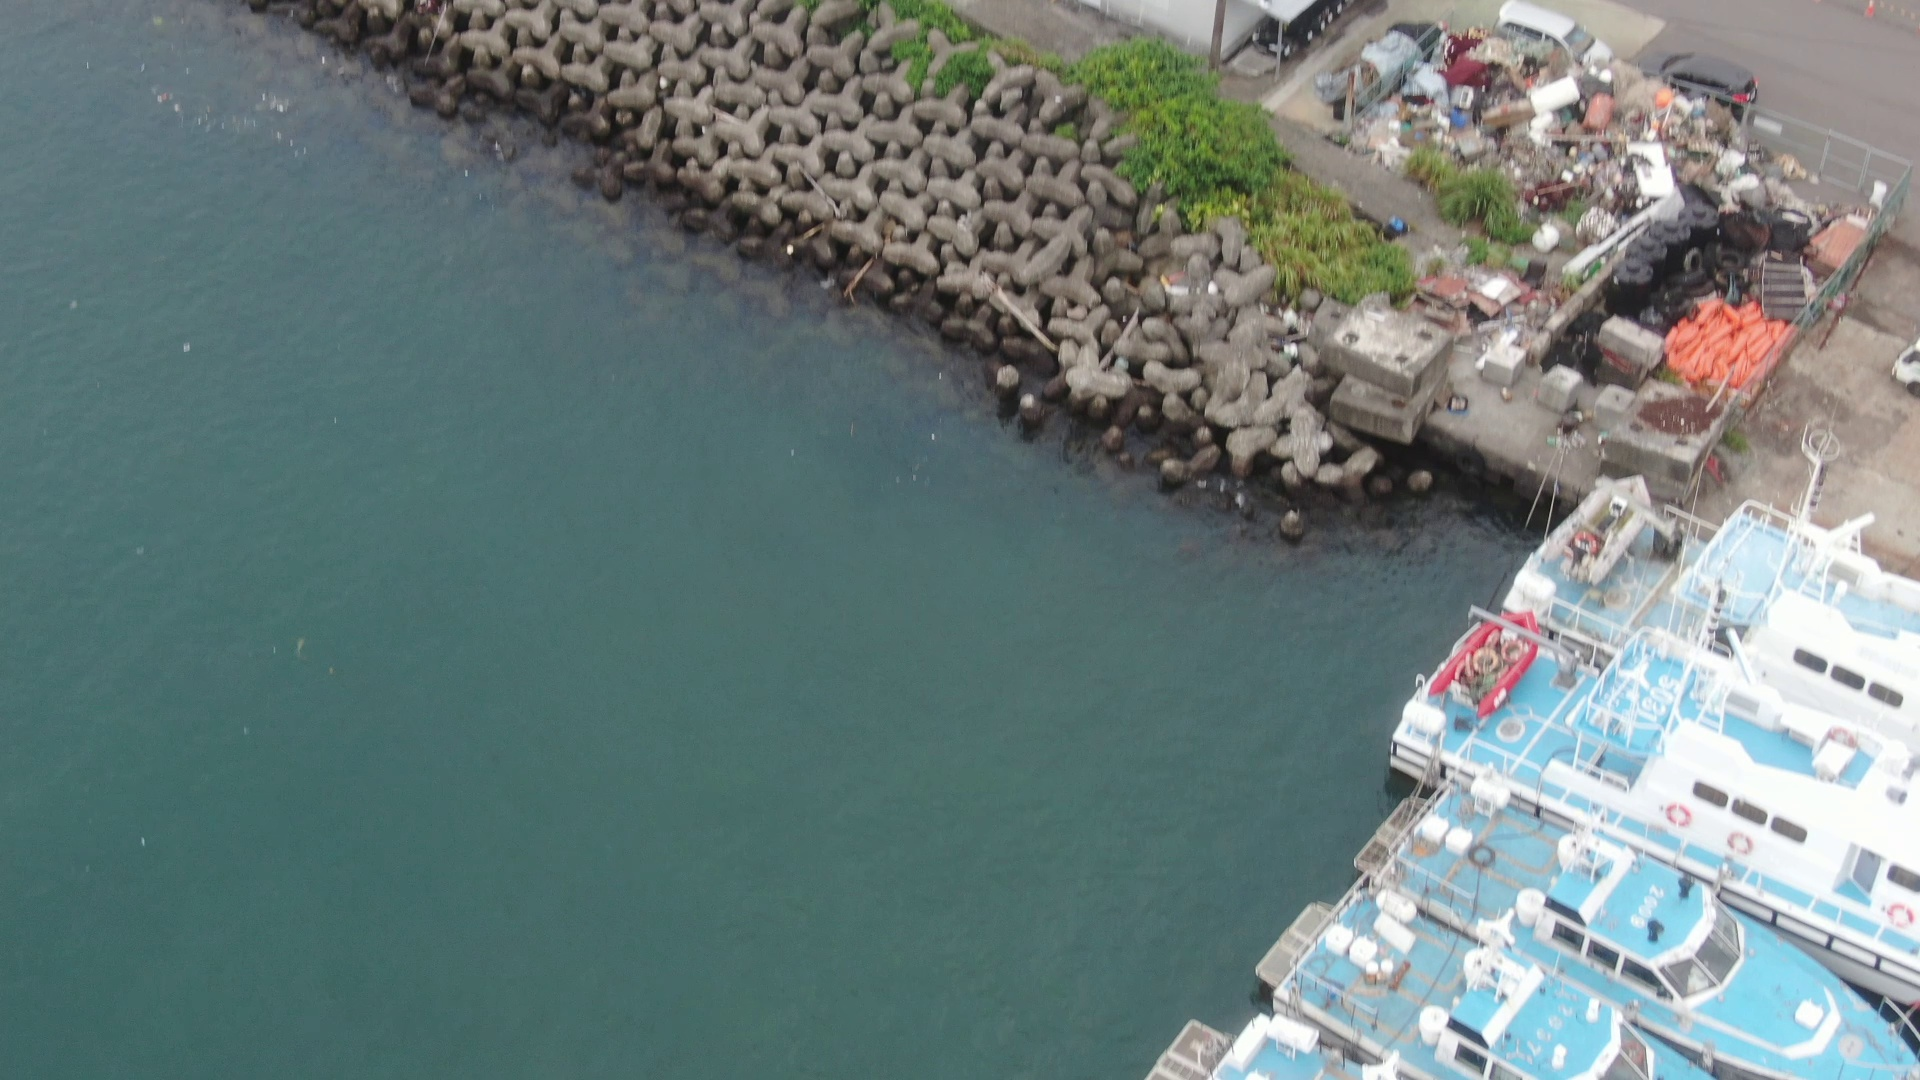garbage: (1395, 24, 1834, 400)
